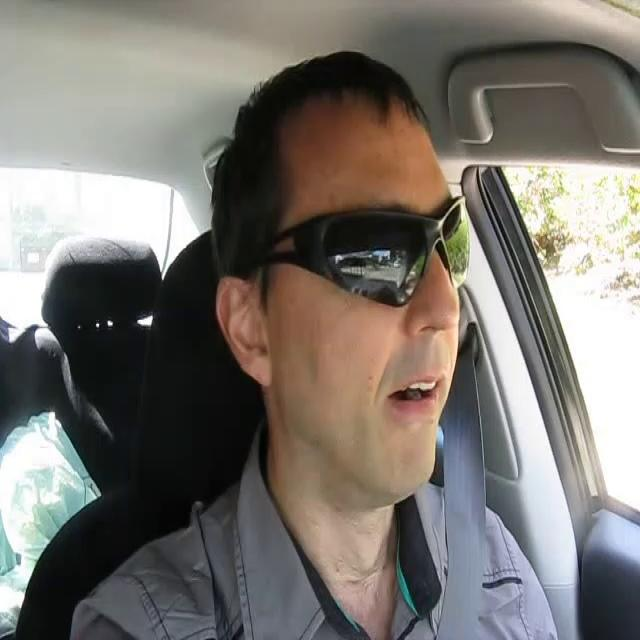open: (383, 366, 452, 424)
